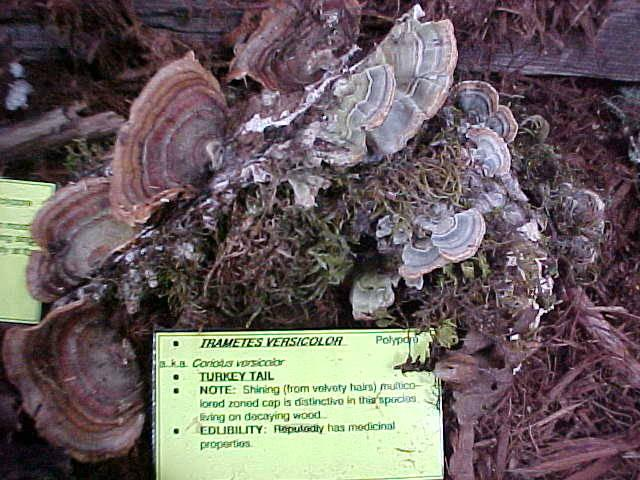poisonous_mushroom: (24, 49, 231, 303), (366, 79, 565, 310), (1, 292, 147, 463), (302, 9, 458, 169)
